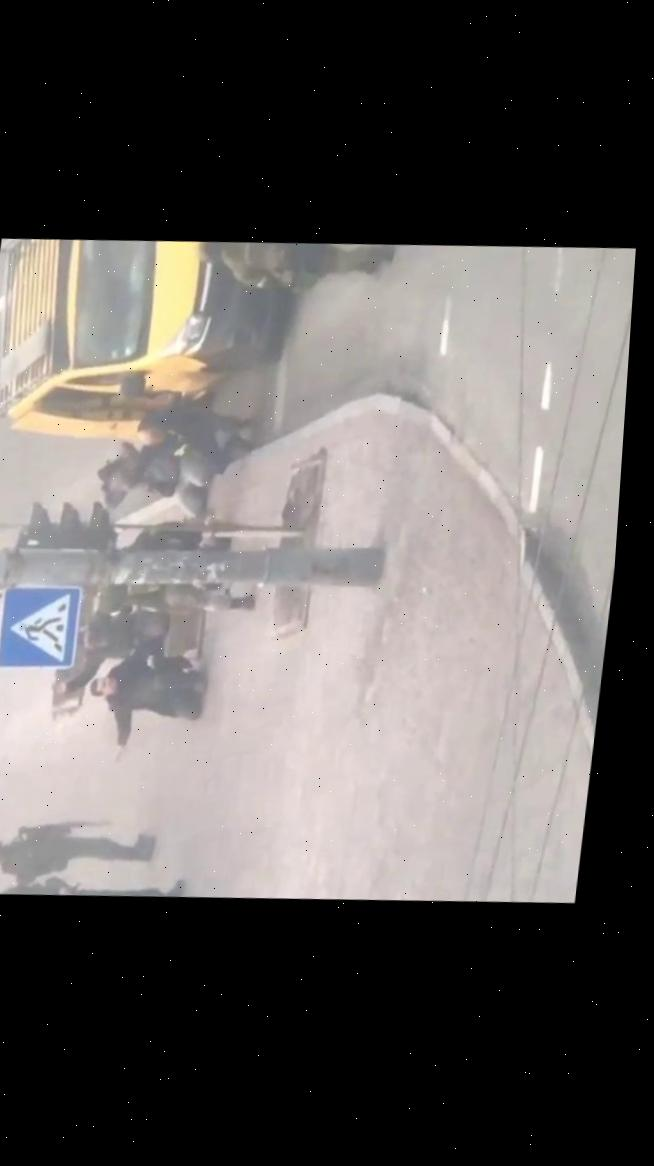person: (80, 631, 211, 764), (0, 811, 161, 894), (190, 235, 395, 300), (91, 435, 216, 525), (129, 395, 256, 482), (0, 869, 185, 904)
